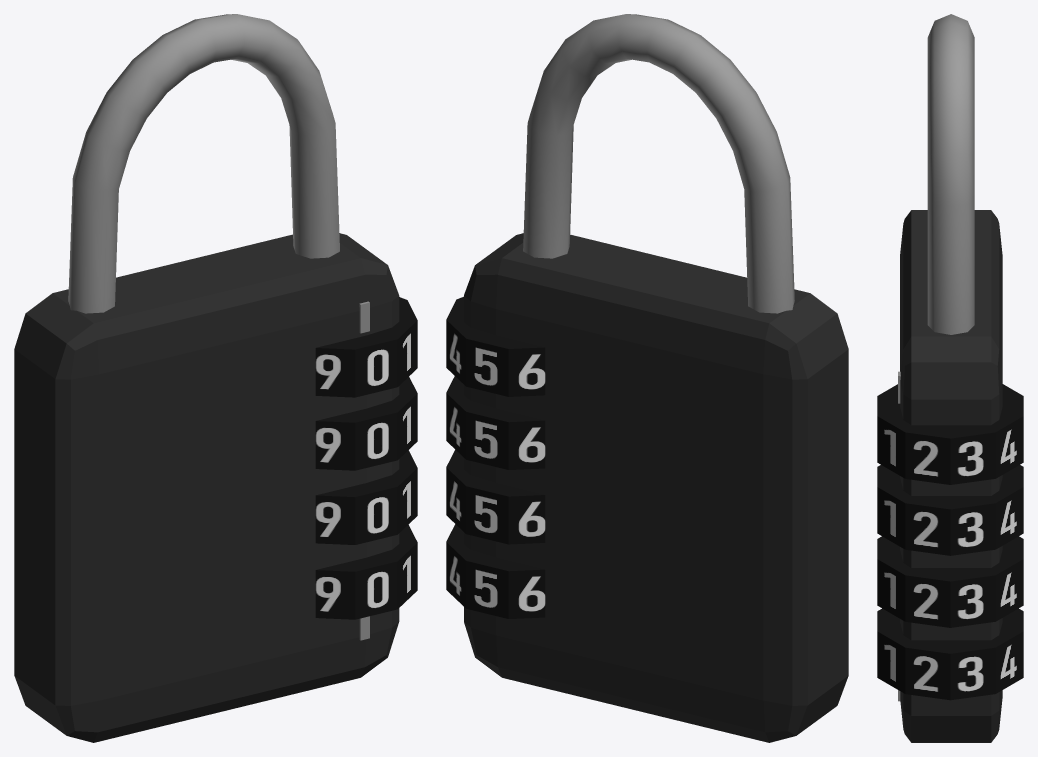
File: padlock.fbx
The picture shows the model from 3 angles, left to right: view 1: azimuth 30°, elevation 25°; view 2: azimuth 150°, elevation 25°; view 3: azimuth 270°, elevation 25°; orthographic projection. The views are drawn at different scales.
Visible parts, largest first — view 1: padlock, dial_1, dial_4, dial_3, dial_2; view 2: padlock, dial_1, dial_3, dial_4, dial_2; view 3: padlock, dial_1, dial_4, dial_3, dial_2.
Boxes of the visible parts, box(x1,y1,x2,y2) form: padlock: box(14, 14, 399, 742); dial_1: box(315, 297, 417, 397); dial_4: box(315, 525, 417, 619); dial_3: box(315, 450, 417, 544); dial_2: box(315, 377, 417, 470); padlock: box(464, 14, 848, 742); dial_1: box(446, 296, 545, 396); dial_3: box(446, 449, 545, 544); dial_4: box(446, 524, 545, 618); dial_2: box(446, 376, 545, 469); padlock: box(898, 14, 1002, 742); dial_1: box(877, 384, 1023, 484); dial_4: box(877, 608, 1023, 700); dial_3: box(877, 536, 1023, 627); dial_2: box(877, 465, 1023, 555).
Size of the model in its own units: 0.0812 by 0.1411 by 0.0285.
Materials: 6 (4 with a texture image).
